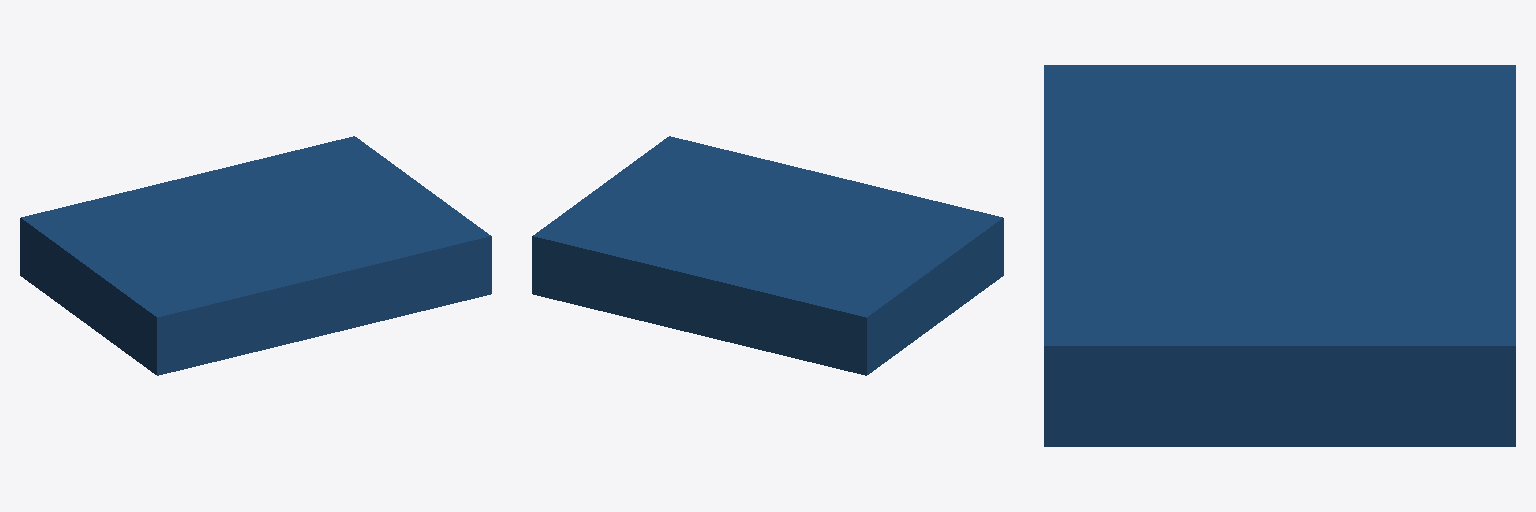
The robot description file, URDF, robot "obj_01":
<?xml version="1.0"?>
<robot name="obj_01">
  <!-- hardcover book: paper, 1200 g. Written by Darius 0.2.0. Link frame: +z up, origin at the capture-time bounding-box center; place it at the pose in world.json -->
  <mujoco>
    <compiler meshdir="../meshes/" discardvisual="true" balanceinertia="true" fusestatic="false" />
  </mujoco>
  <link name="obj_01">
    <inertial>
      <origin xyz="0 0 0" rpy="0 0 0" />
      <mass value="1.2" />
      <inertia ixx="0.00305" ixy="0" ixz="0" iyy="0.00592" iyz="0" izz="0.00865" />
    </inertial>
    <visual>
      <geometry>
        <box size="0.24 0.17 0.04" />
      </geometry>
      <material name="obj_01_color">
        <color rgba="0.184 0.365 0.541 1" />
      </material>
    </visual>
    <collision name="obj_01">
      <geometry>
        <box size="0.24 0.17 0.04" />
      </geometry>
    </collision>
    <contact>
      <lateral_friction value="0.5" />
      <restitution value="0.05" />
    </contact>
  </link>
</robot>

--- Render facts (derived) ---
The picture shows the robot from 3 angles, left to right: view 1: azimuth 30°, elevation 25°; view 2: azimuth 150°, elevation 25°; view 3: azimuth 270°, elevation 25°; orthographic projection.
Model obj_01 with 1 links and 0 joints (none), rooted at obj_01, posed every joint at zero.
Visible links, largest first — view 1: obj_01; view 2: obj_01; view 3: obj_01.
Link boxes in pixels (<box>): obj_01: <box>20,136,491,375</box>; obj_01: <box>532,136,1003,375</box>; obj_01: <box>1044,65,1515,446</box>.
Size in the robot's own frame: 0.24 by 0.17 by 0.04 metres.
Geometry: primitives only (box / cylinder / sphere), no mesh files.
